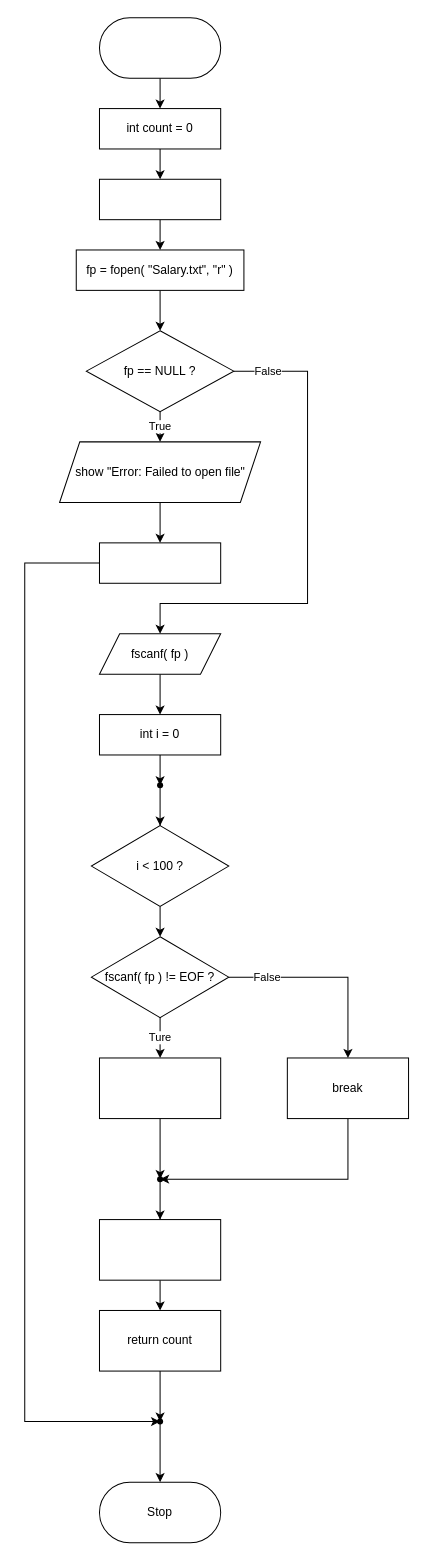
The diagram is 426 pixels wide and 1560 high, and some of its shapes have lost their labels. The shapes that lost their labels are listed below. From the top down, each one's centre as x and y in pixels, then its label:
At (x=159, y=47): "collector ( worker take[] )".
At (x=159, y=199): "FILE *fp".
At (x=159, y=562): "exit( 0 )".
At (x=159, y=1088): "count = count + 1".
At (x=159, y=1249): "fclose( fp )".
